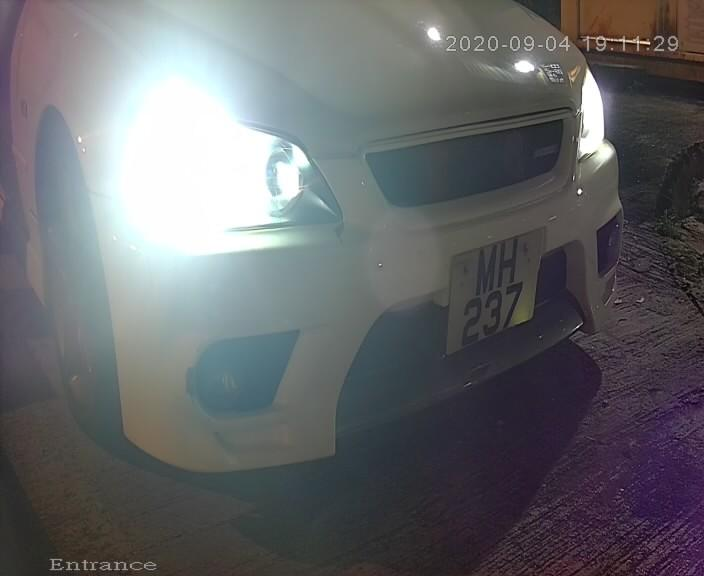License Plate: (431, 209, 547, 369)
